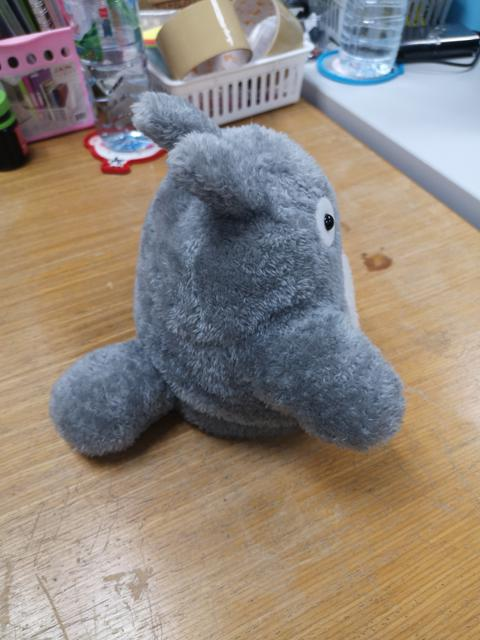totoro: (44, 90, 410, 476)
